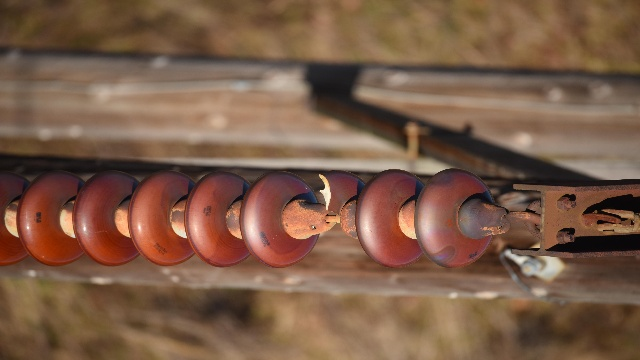broken_local: (316, 170, 352, 237)
insulator_unspecified: (0, 170, 495, 266)
pollution_flashover_local: (426, 246, 457, 265)
